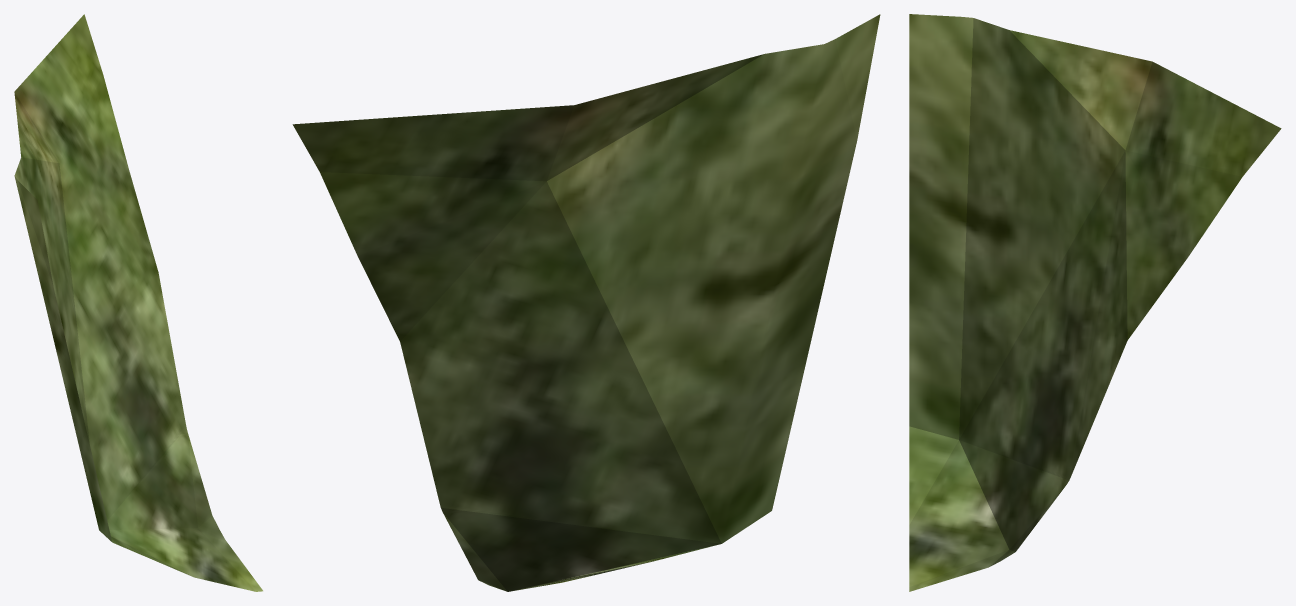
The picture shows the model from 3 angles, left to right: view 1: azimuth 30°, elevation 25°; view 2: azimuth 150°, elevation 25°; view 3: azimuth 270°, elevation 25°; orthographic projection. The views are drawn at different scales.
Size of the model in its own units: 0.8195 by 1.55 by 1.13.
Materials: 1 (1 with a texture image).
